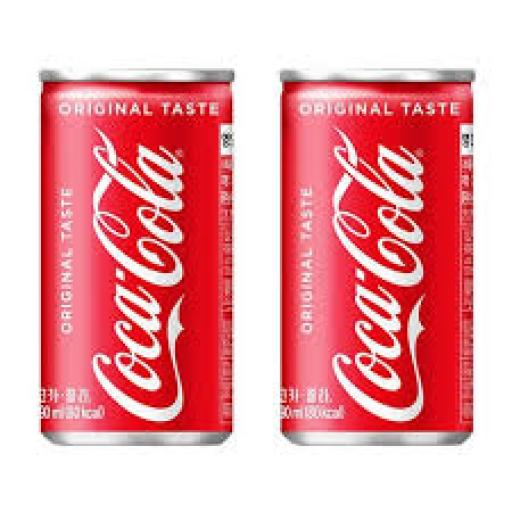Coca: (34, 62, 238, 455), (274, 60, 478, 453)
